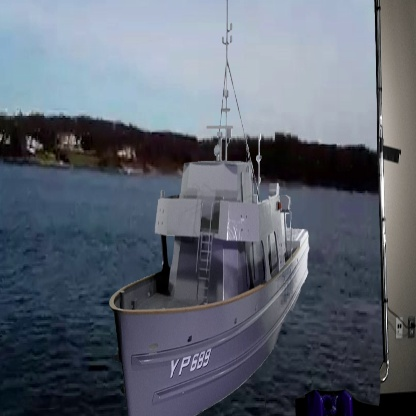YP689: (107, 0, 310, 416)
